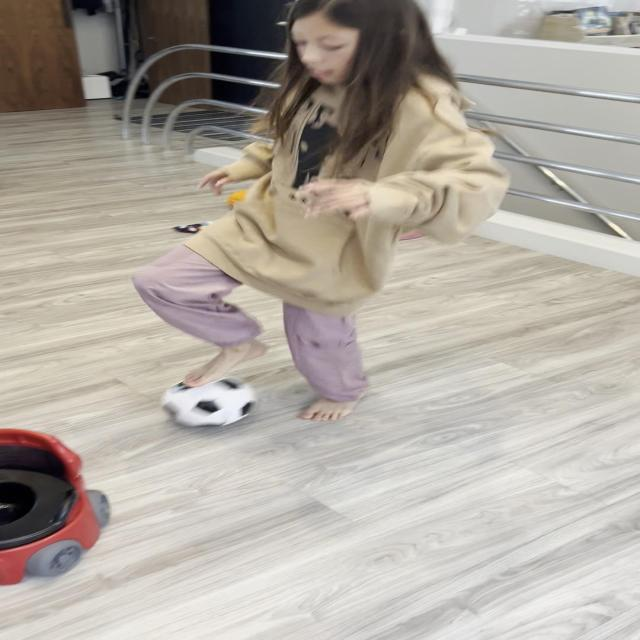Soccer Ball: (160, 375, 259, 430)
